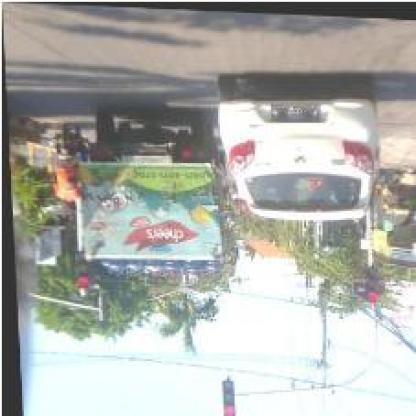red: (362, 259, 378, 298), (71, 250, 87, 289), (218, 378, 233, 414)
